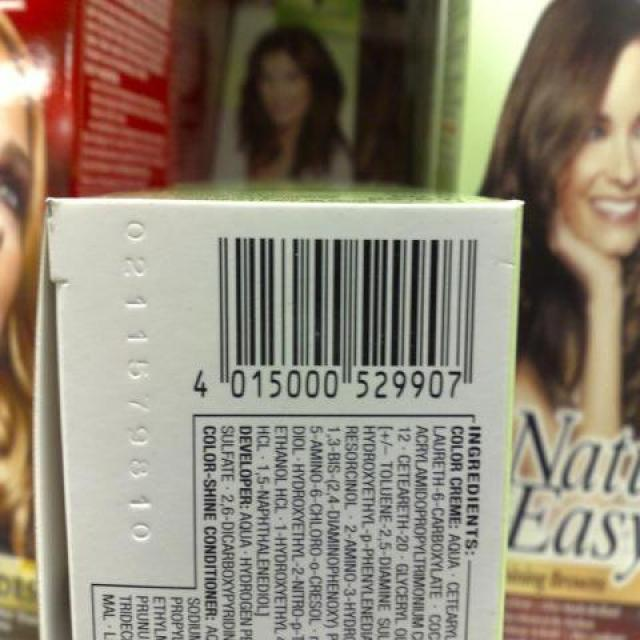Barcode: (184, 224, 492, 412)
